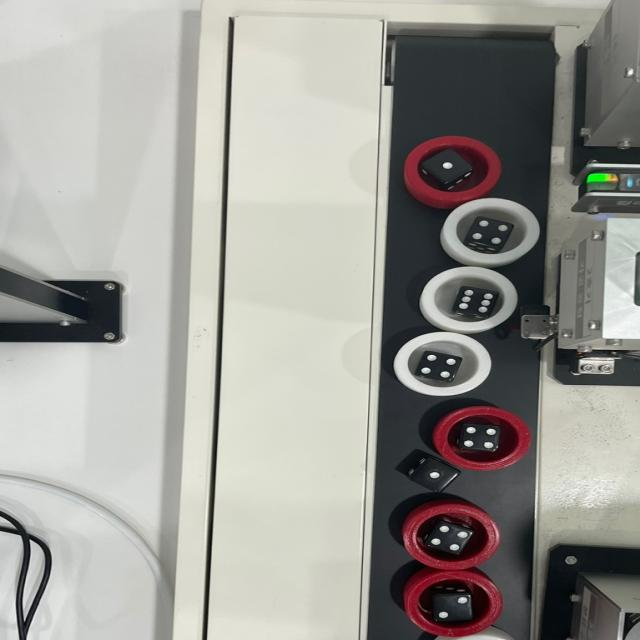DICE1: (412, 460, 459, 489), (428, 153, 469, 180)
DICE2: (426, 592, 466, 619)
DICE4: (470, 218, 511, 246), (460, 423, 500, 451), (430, 526, 472, 552), (421, 352, 458, 378)
DICE6: (454, 286, 497, 318)
RedChip: (404, 136, 502, 204), (396, 502, 492, 569), (401, 572, 499, 634), (435, 407, 532, 468)
WhiteChip: (421, 264, 520, 332), (439, 200, 542, 265), (392, 332, 495, 396)
